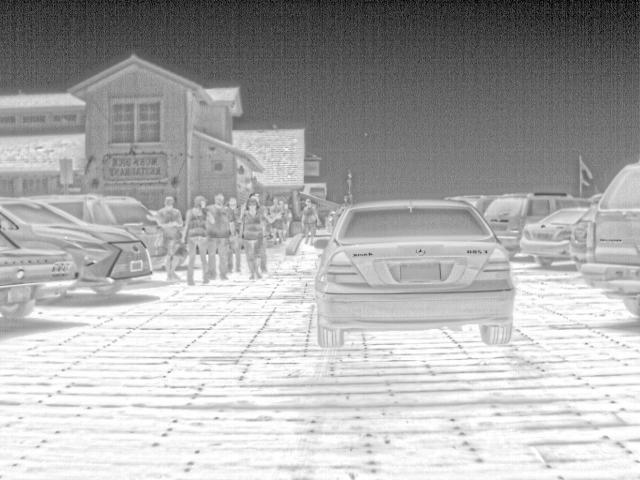car: (309, 199, 516, 346), (1, 194, 157, 294), (24, 191, 171, 272), (577, 160, 639, 326), (1, 207, 80, 320), (482, 191, 574, 256), (518, 208, 588, 270), (453, 192, 500, 215)
person: (183, 197, 216, 287), (153, 194, 184, 283), (208, 194, 236, 280), (236, 200, 266, 278), (300, 197, 322, 245), (268, 197, 285, 245)
